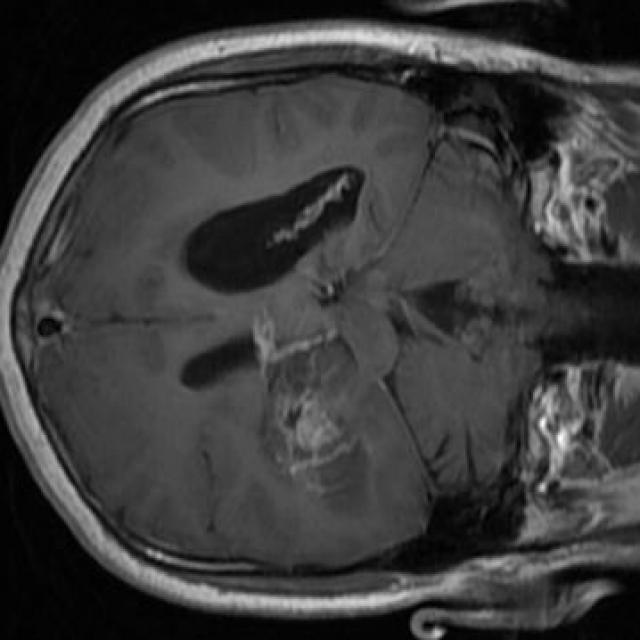glioma: (253, 307, 367, 506)
